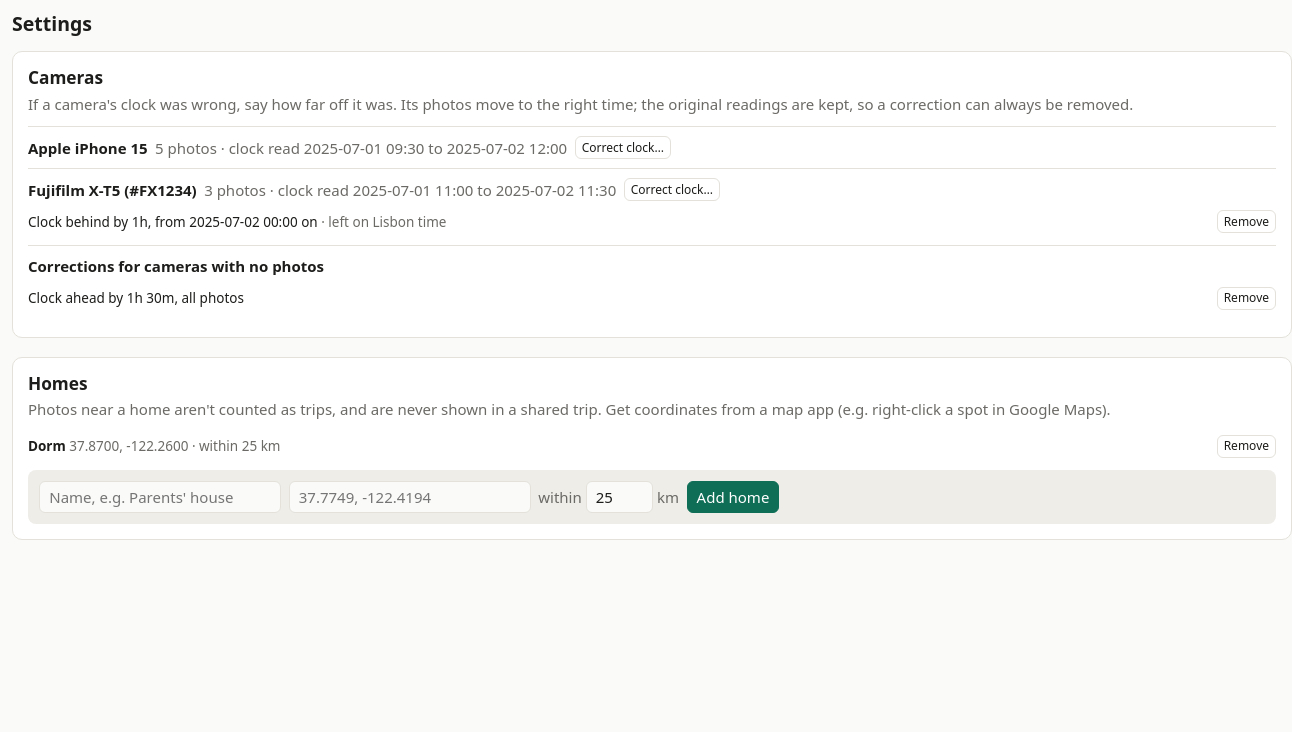
homes › won't send coordinates it can't read
Type "Dorm" into the field named "Home name".
click(160, 497); type("Dorm")  # box [39,481,281,513]
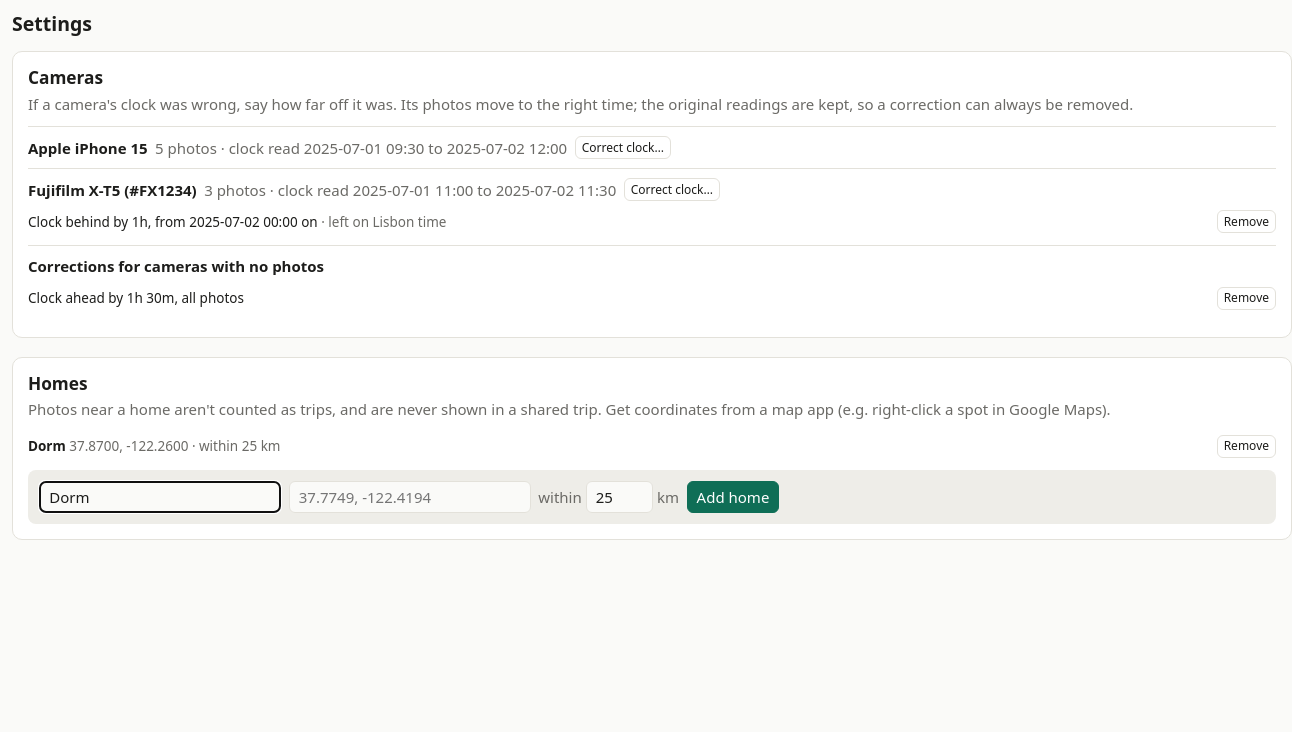
Type "Berkeley, CA" into the field named "Coordinates".
click(410, 497); type("Berkeley, CA")  # box [289,481,531,513]
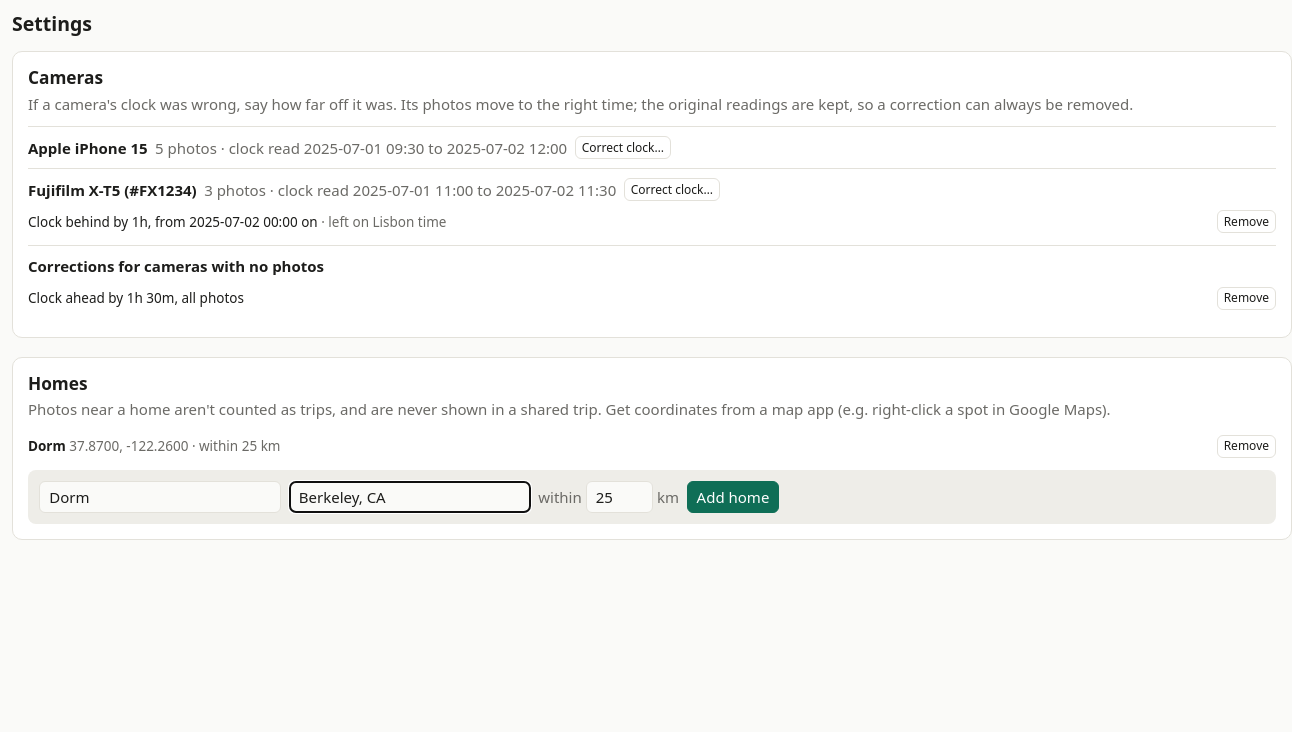
Click the button "Add home".
click(733, 497)  # box [687,481,779,513]
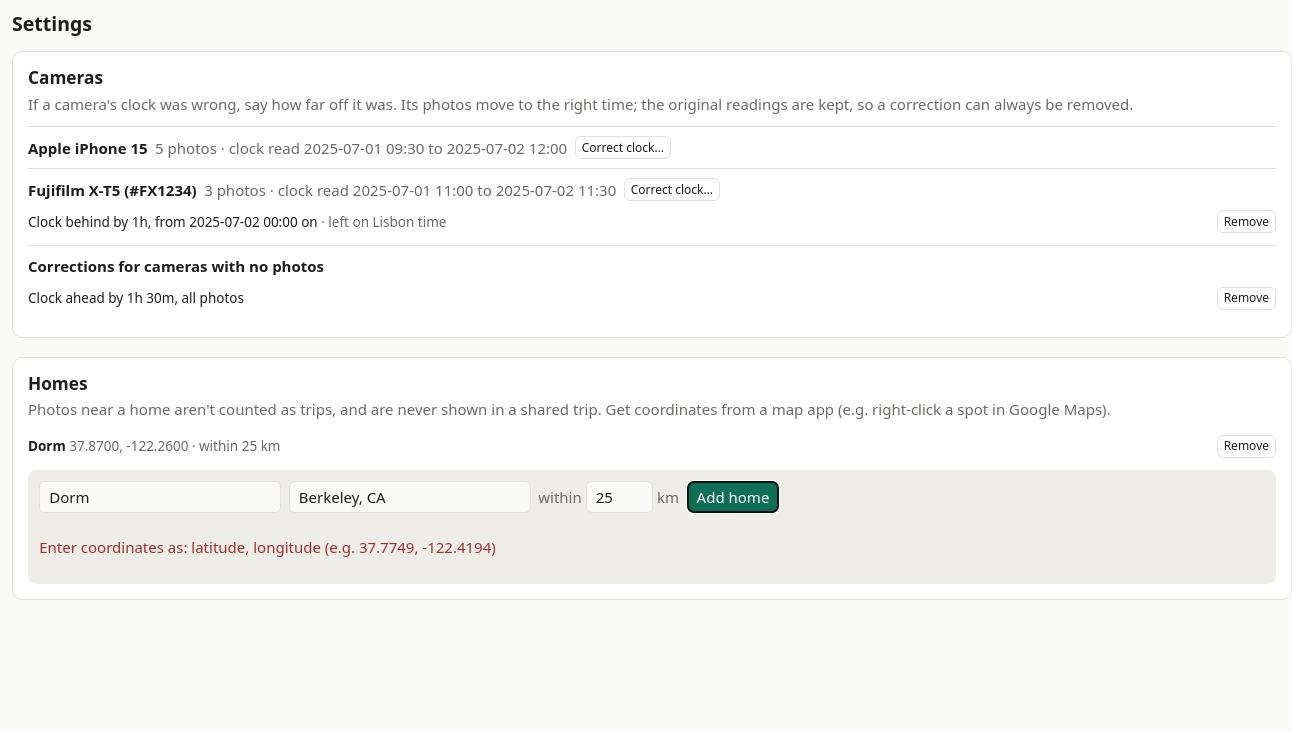
Expected: the message shows "Enter coordinates as: latitude, longitude", [39,536,496,556]
